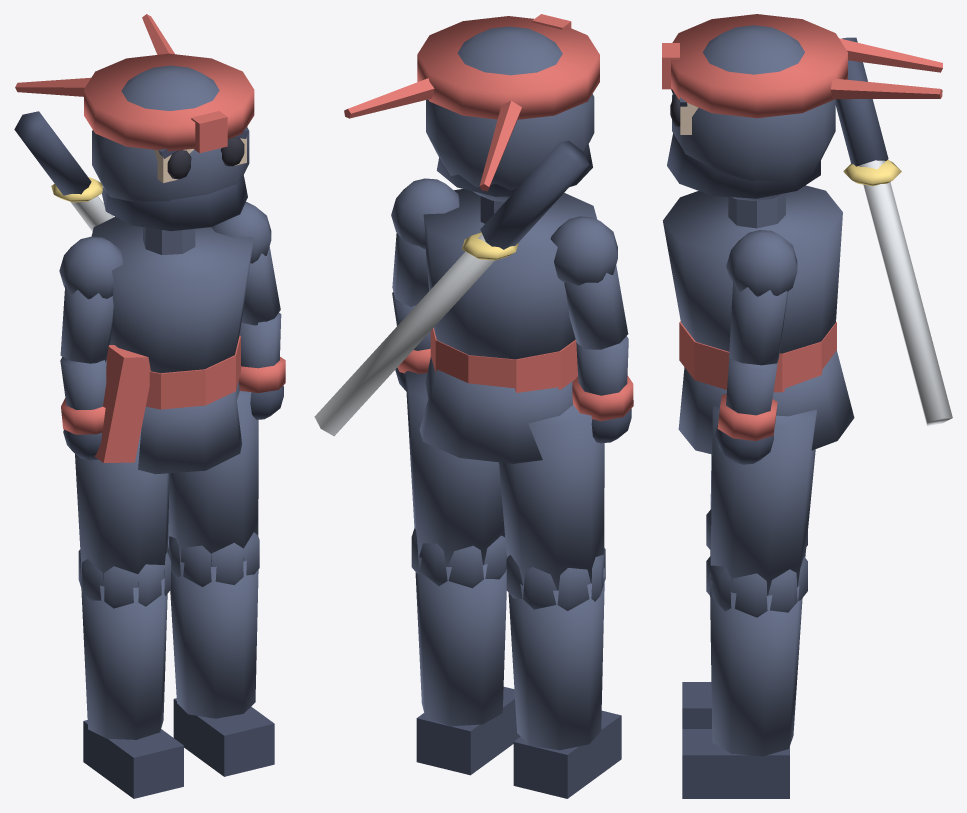
Rendered from meeple_06_ninja_stand.glb.
3 views of the same model, side by side, from view 1: azimuth 30°, elevation 25°; view 2: azimuth 150°, elevation 25°; view 3: azimuth 270°, elevation 25° (orthographic). The views are drawn at different scales.
Visible parts, largest first — view 1: meeple_06_ninja_stand; view 2: meeple_06_ninja_stand; view 3: meeple_06_ninja_stand.
Part boxes in pixels (<box>): meeple_06_ninja_stand: <box>14,14,285,798</box>; meeple_06_ninja_stand: <box>314,14,633,798</box>; meeple_06_ninja_stand: <box>662,14,952,798</box>.
Size of the model in its own units: 0.5125 by 1.53 by 0.5541.
